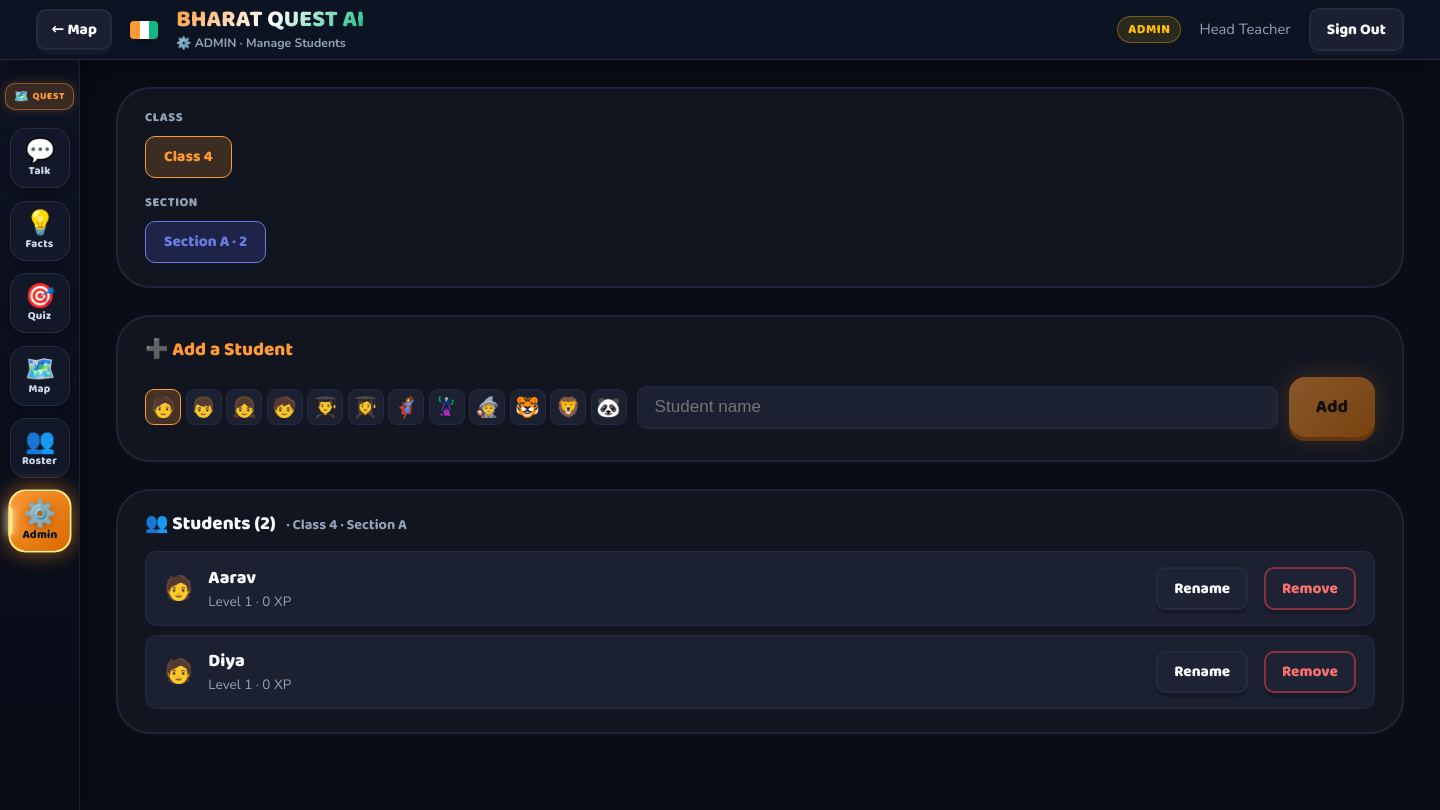
AdminPage — draft staging › shows a save bar counting the staged changes
Expected: the text "Aarav" is shown, [208, 564, 256, 592]
Type "Kabir" into the field with placeholder "Student name" at (958,407), box [637, 386, 1278, 429]
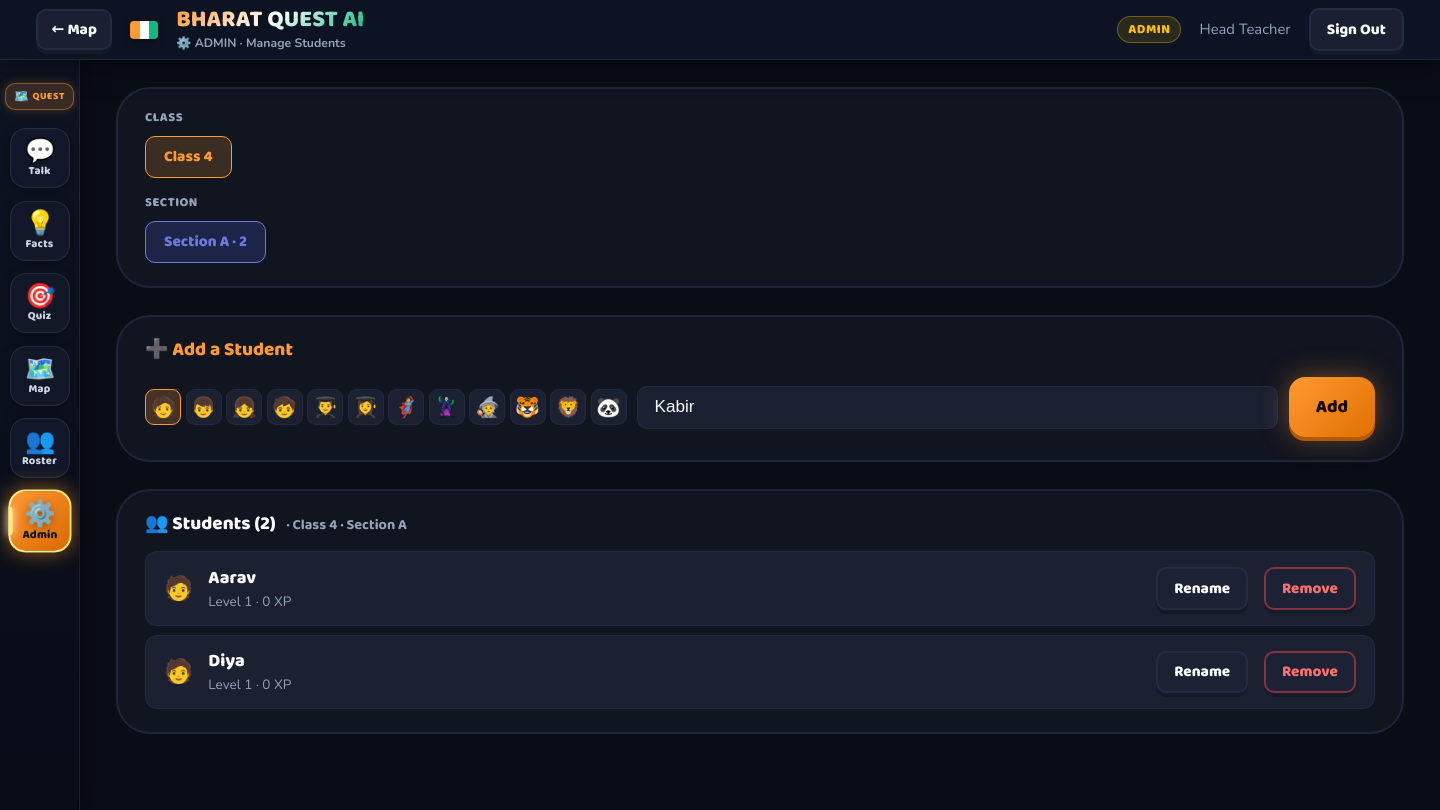
Click the button "Add" at (1332,407), box [1289, 377, 1375, 437]
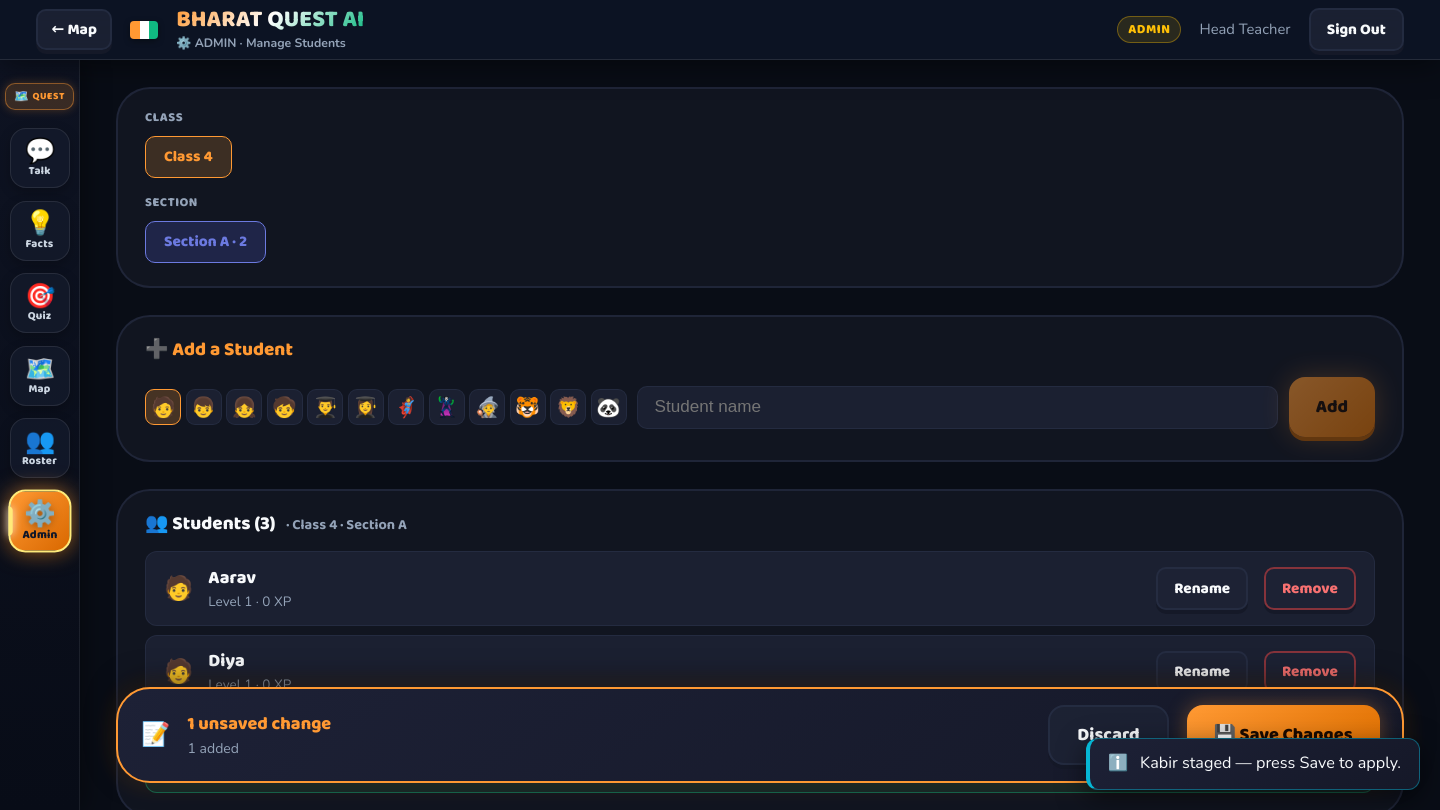
Now the text "1 unsaved change" is shown, box [188, 710, 331, 738]
Now the button "💾 Save Changes" is shown, box [1187, 705, 1380, 765]
